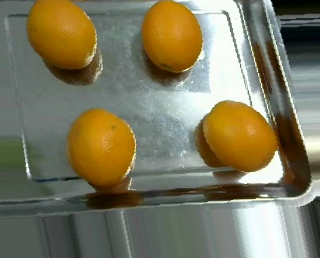Orange: (65, 108, 137, 186), (203, 100, 278, 173), (26, 1, 98, 70), (141, 1, 203, 73)
